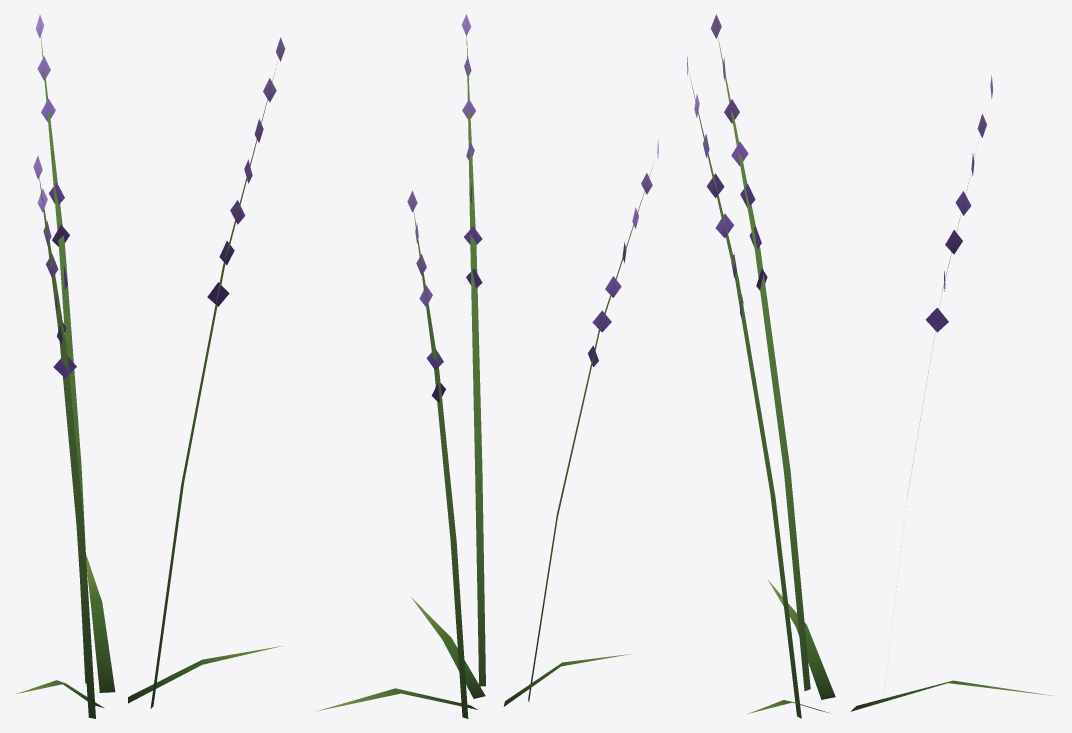
File: flower_purple_01.glb
The picture shows the model from 3 angles, left to right: view 1: azimuth 30°, elevation 25°; view 2: azimuth 150°, elevation 25°; view 3: azimuth 270°, elevation 25°; orthographic projection. The views are drawn at different scales.
Parts seen in each view (by area): view 1: flower_purple_01_mesh; view 2: flower_purple_01_mesh; view 3: flower_purple_01_mesh.
Part boxes in pixels (x1,y1,x2,y2): flower_purple_01_mesh: (15,15,285,718); flower_purple_01_mesh: (317,14,658,718); flower_purple_01_mesh: (687,14,1053,718).
Size of the model in its own units: 0.1716 by 0.4303 by 0.2065.
